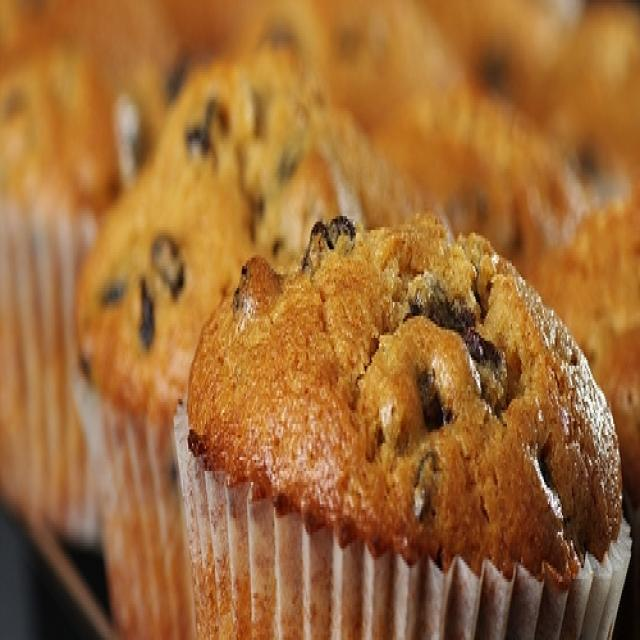炸货点心: (23, 20, 634, 634)
面包点心: (23, 20, 634, 634)
